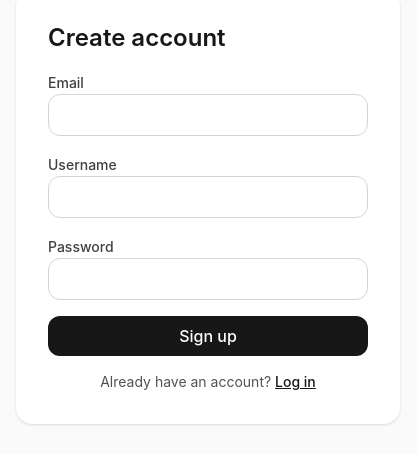
SignupPage validation › shows an error when password is too short
Type "a@b.co" into the field labelled "Email". click: (208, 115)
box: [48,94,368,136]
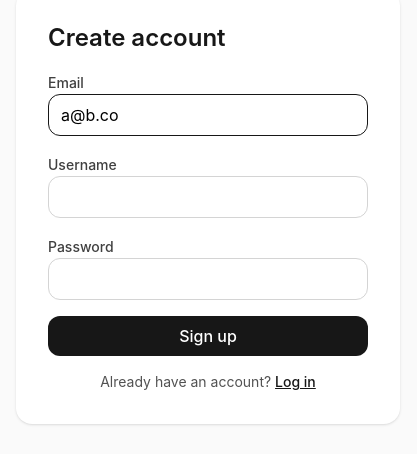
Type "alice" into the field labelled "Username". click: (208, 197)
box: [48,176,368,218]
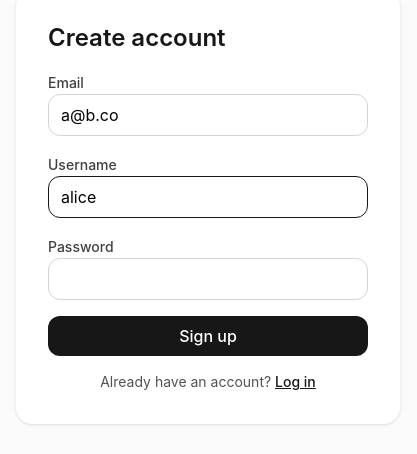
Type "short" into the password field labelled "Password". click: (208, 279)
box: [48,258,368,300]
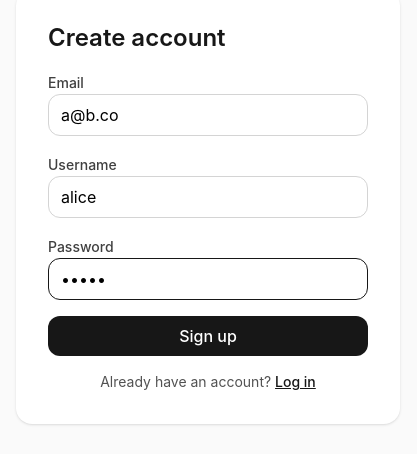
Click the button "Sign up". click: (208, 336)
box: [48,316,368,356]
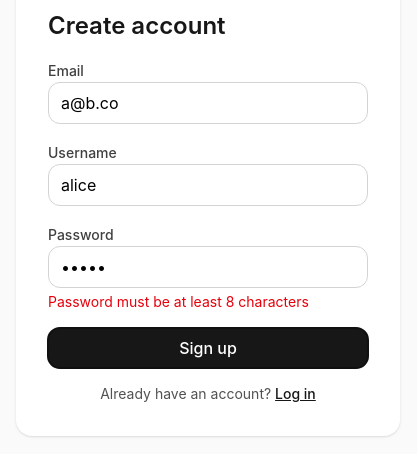
Now the text "Password must be at least 8 characters" is shown, box [48,293,309,310]
